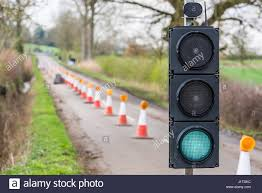green: (165, 24, 224, 171), (172, 29, 215, 164)
